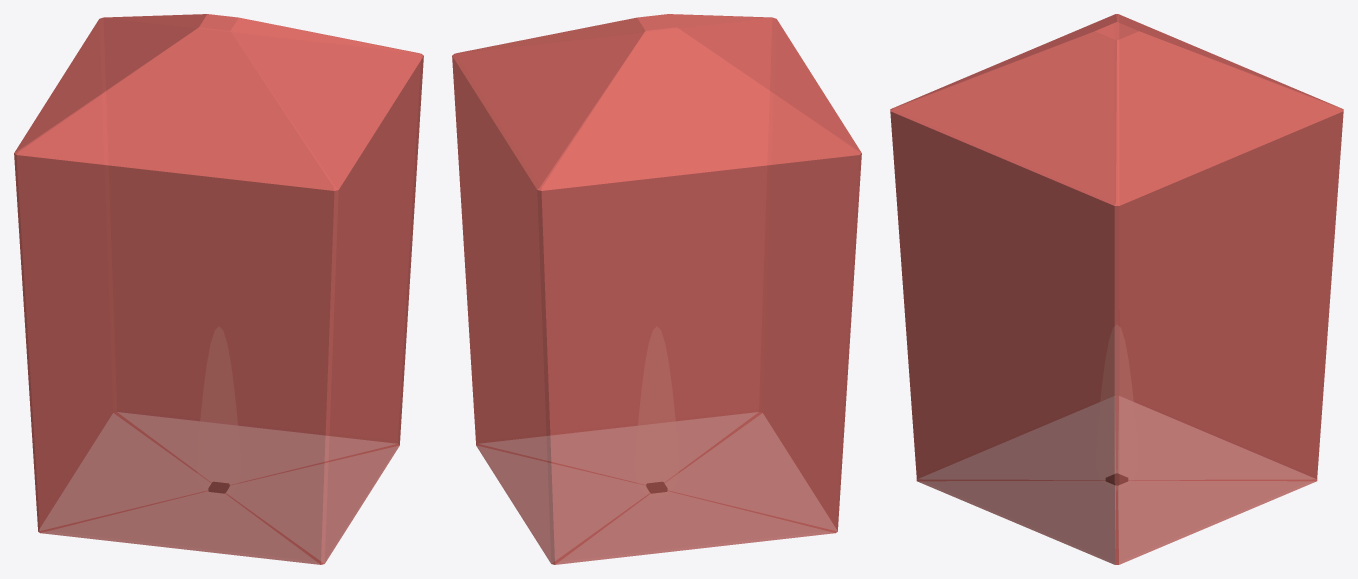
Rendered from red_lantern_sky_lantern.glb.
3 views of the same model, side by side, from view 1: azimuth 30°, elevation 25°; view 2: azimuth 150°, elevation 25°; view 3: azimuth 270°, elevation 25° (orthographic). The views are drawn at different scales.
Visible parts, largest first — view 1: Red Lantern_0; view 2: Red Lantern_0; view 3: Red Lantern_0.
Boxes of the visible parts, x1,y1,x2,y2 form: Red Lantern_0: [14, 14, 423, 564]; Red Lantern_0: [452, 14, 861, 564]; Red Lantern_0: [890, 14, 1343, 564].
Bounding box in the file's own units: 3.17 × 3.53 × 3.17.
